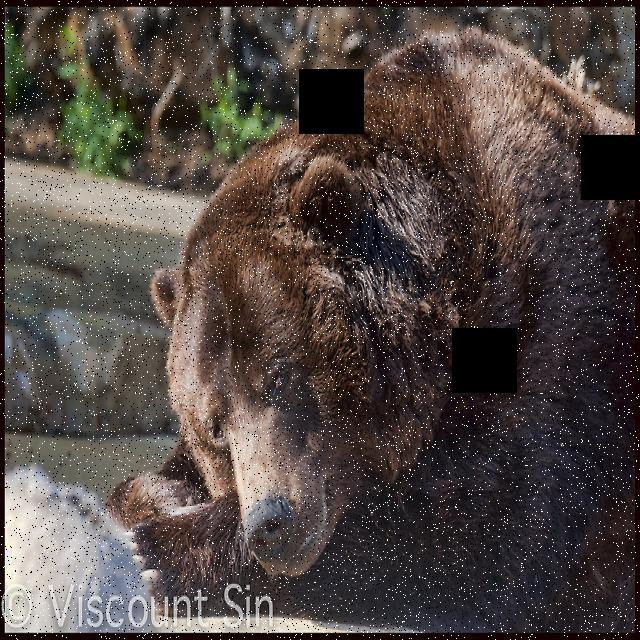Bear: (103, 26, 640, 640)
